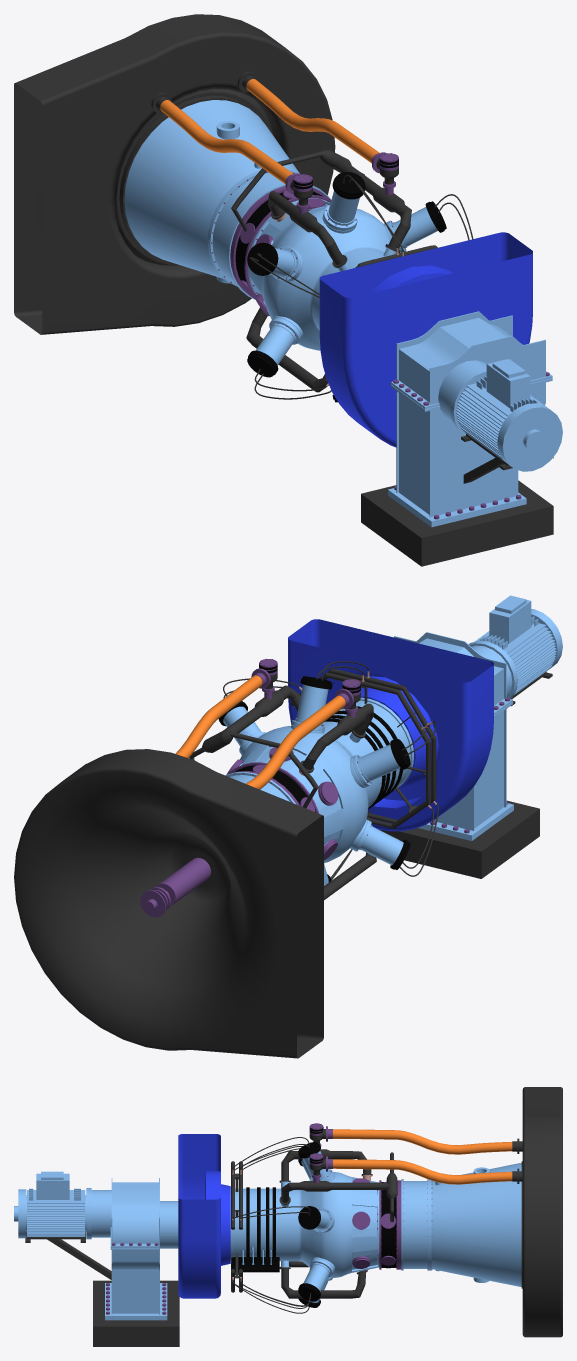
Rendered from machine.gltf.
The picture shows the model from 3 angles, top to bottom: view 1: azimuth 30°, elevation 25°; view 2: azimuth 150°, elevation 25°; view 3: azimuth 270°, elevation 25°; orthographic projection. The views are drawn at different scales.
Visible parts, largest first — view 1: pPipe43; view 2: pPipe43; view 3: pPipe43.
Part boxes in pixels (left/top/right/bottom): pPipe43: left=14, top=14, right=562, bottom=566; pPipe43: left=14, top=595, right=562, bottom=1058; pPipe43: left=14, top=1087, right=562, bottom=1346.
Size of the model in its own units: 7.31 by 6.86 by 16.56.
